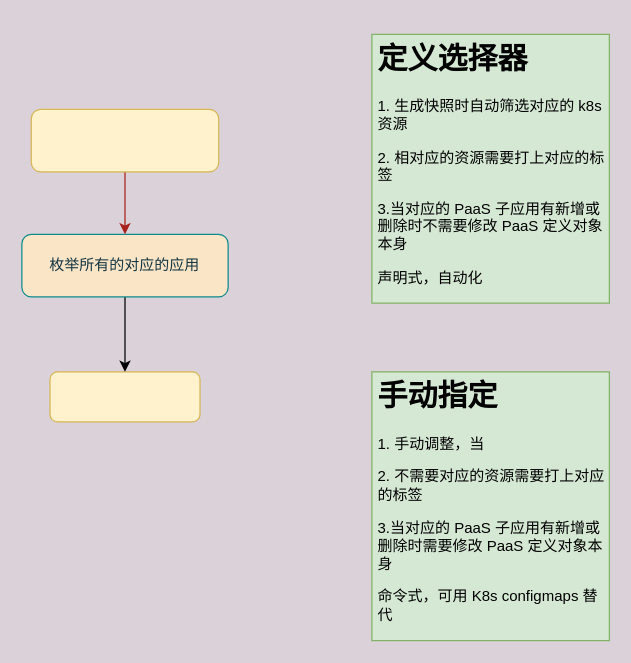
Some shapes in this 631 by 663 pixel diagram are drawn without their labels. Each missing label, with the centre of its shape:
保存 PaaS 定义状态: the point at 124,396
创建 PaaS 定义: the point at 124,140
